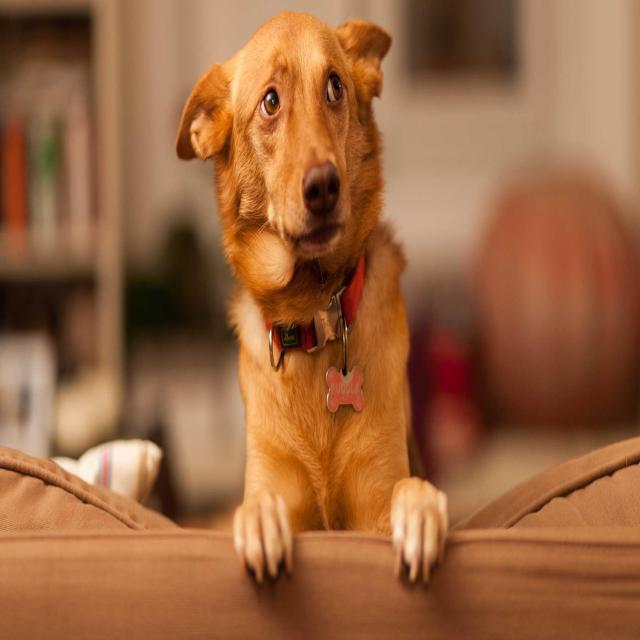Dog: (171, 8, 398, 310)
